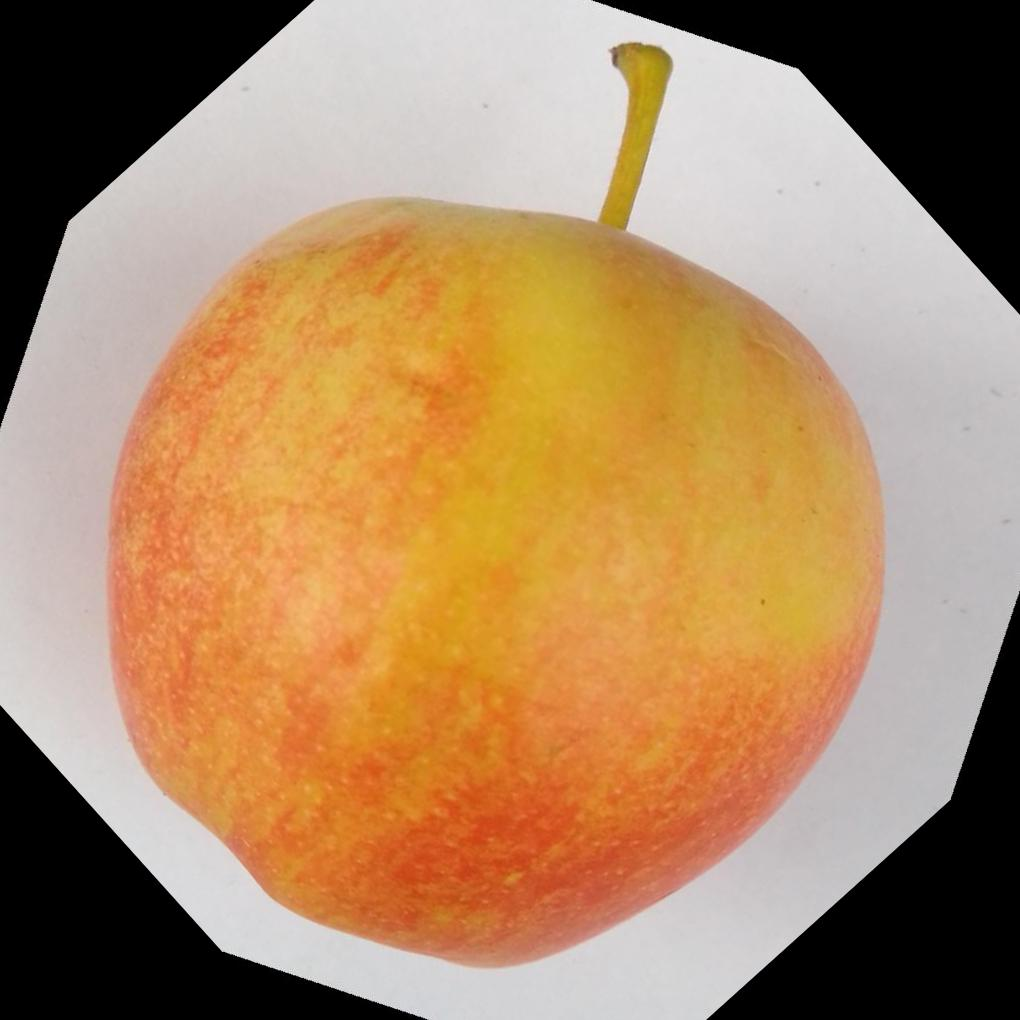FreshGuava: (102, 194, 885, 974)
